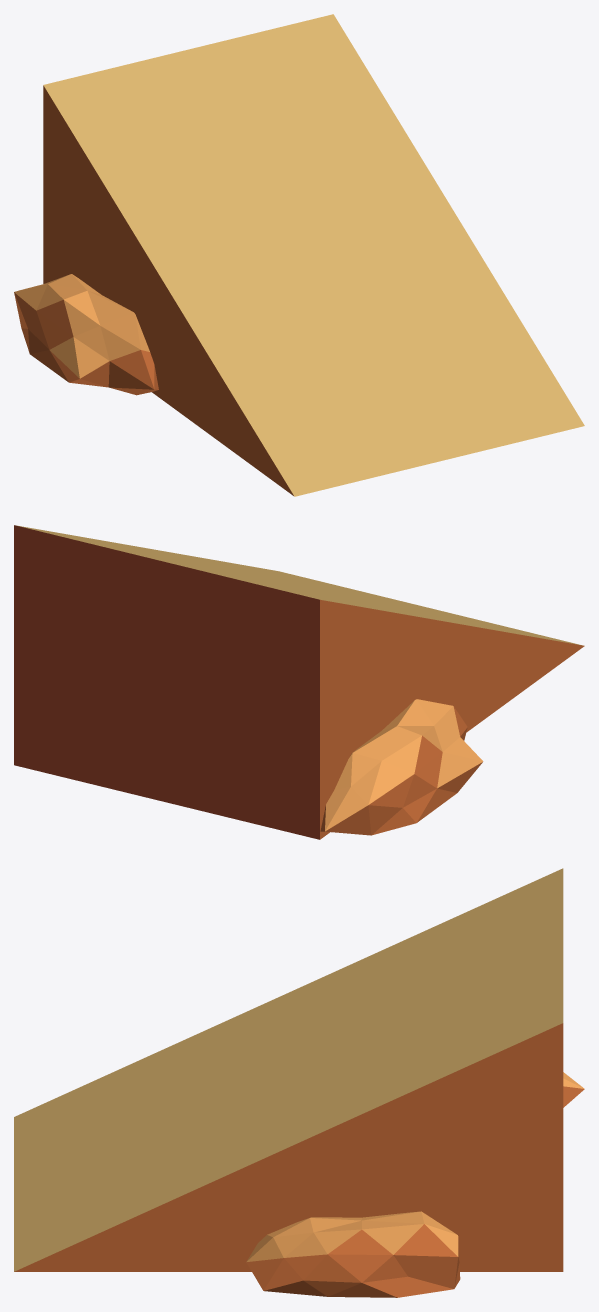
Rendered from CA_Rampa_Roca.obj.
3 renders of one model, top to bottom at view 1: azimuth 30°, elevation 25°; view 2: azimuth 150°, elevation 25°; view 3: azimuth 270°, elevation 25°, orthographic. The views are drawn at different scales.
Visible parts, largest first — view 1: CA_Rampa_Roca; view 2: CA_Rampa_Roca; view 3: CA_Rampa_Roca.
Part boxes in pixels (x1,y1,x2,y2): CA_Rampa_Roca: (14,14,584,496); CA_Rampa_Roca: (14,525,584,839); CA_Rampa_Roca: (14,868,584,1297).
Bounding box in the file's own units: 5.55 × 3 × 6.24.
